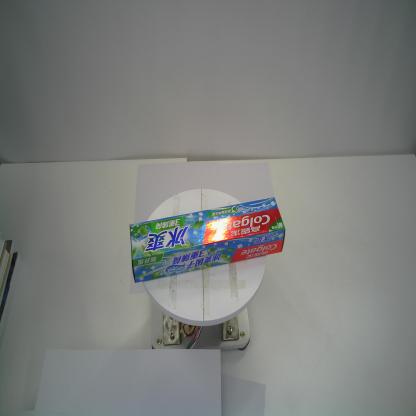Personal Hygiene: (129, 196, 286, 285)
